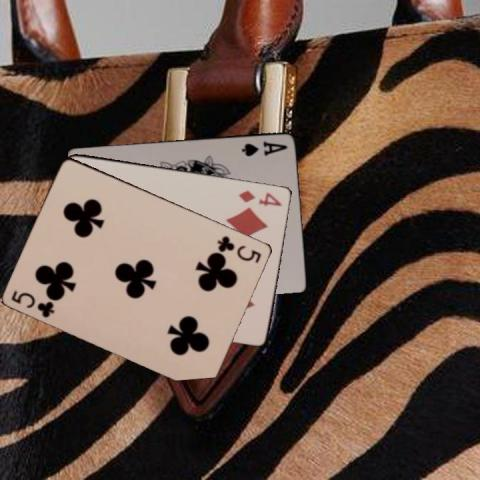4d: (236, 187, 283, 208)
5c: (215, 232, 263, 264), (8, 287, 56, 319)
As: (239, 138, 289, 157)
